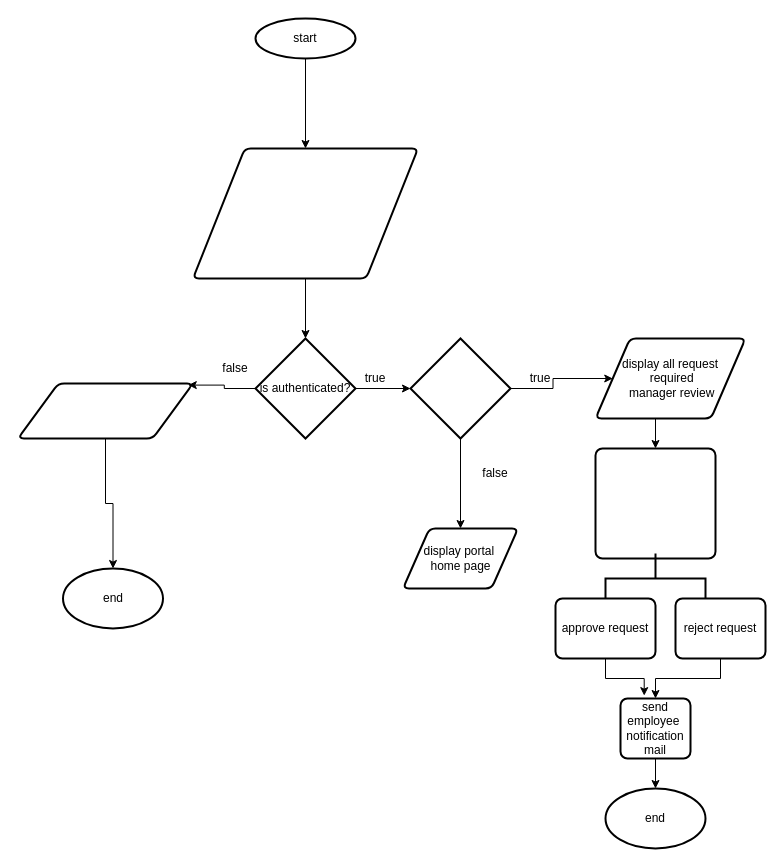
This 784x866 diagram has some shape labels left out. The centre of each missing label's shape, as x and y in pixels:
"display error message" goes at pixel 105 410.
"enter username , password to authenticate user" goes at pixel 305 213.
"is authorized" goes at pixel 460 388.
"select any request and view request details" goes at pixel 655 503.
